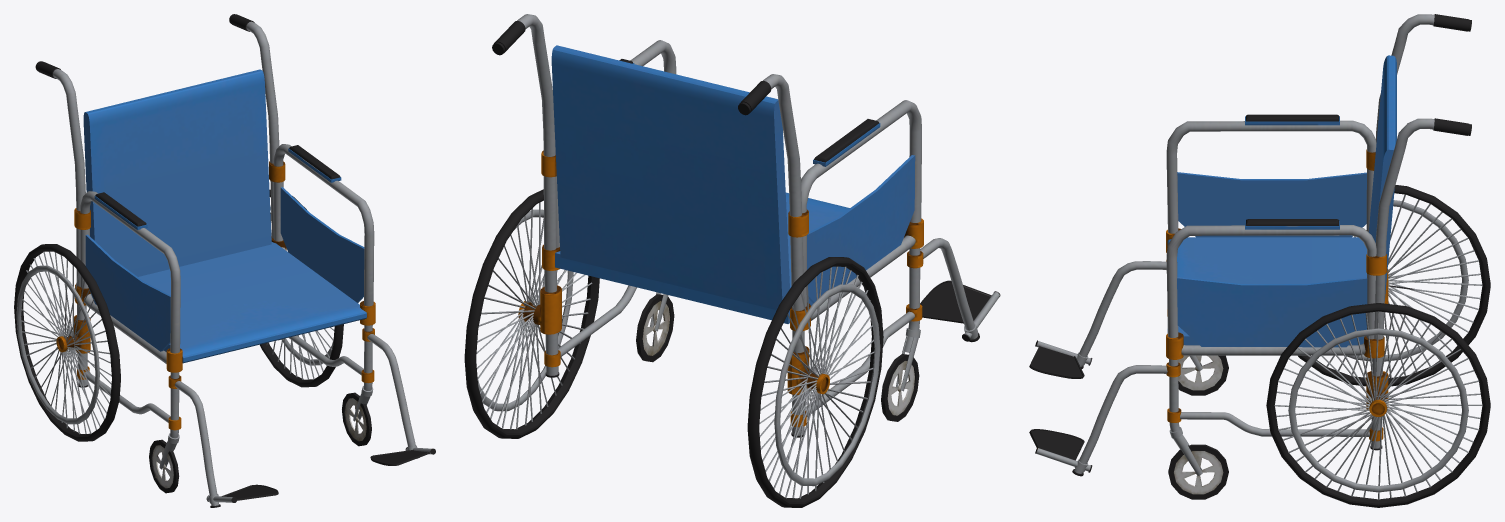
Rendered from wheel_chair_Wheel_chair.gltf.
3 renders of one model, left to right at view 1: azimuth 30°, elevation 25°; view 2: azimuth 150°, elevation 25°; view 3: azimuth 270°, elevation 25°, orthographic. The views are drawn at different scales.
Visible parts, largest first — view 1: node0; view 2: node0; view 3: node0.
Part boxes in pixels (bbox=[...]): node0: bbox=[14, 14, 435, 507]; node0: bbox=[464, 14, 1000, 507]; node0: bbox=[1029, 14, 1490, 507].
Bounding box in the file's own units: 1.01 × 1.35 × 1.49.
1 material, 1 textured.
